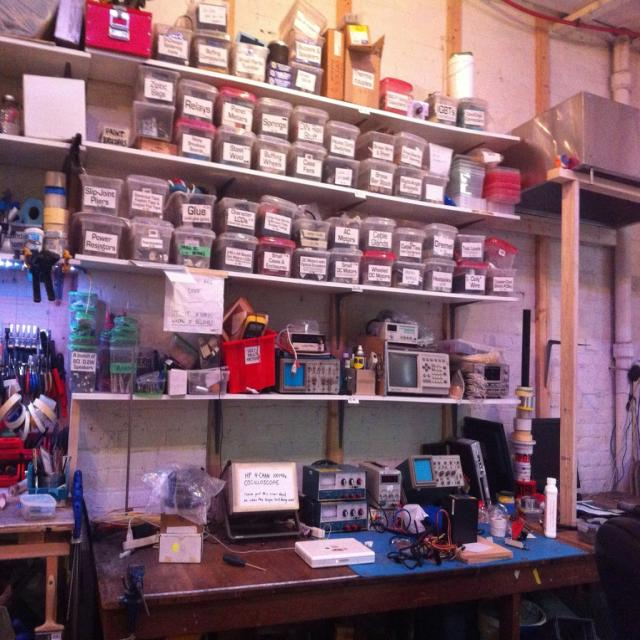chair: (594, 513, 640, 637)
desk: (20, 474, 616, 630)
